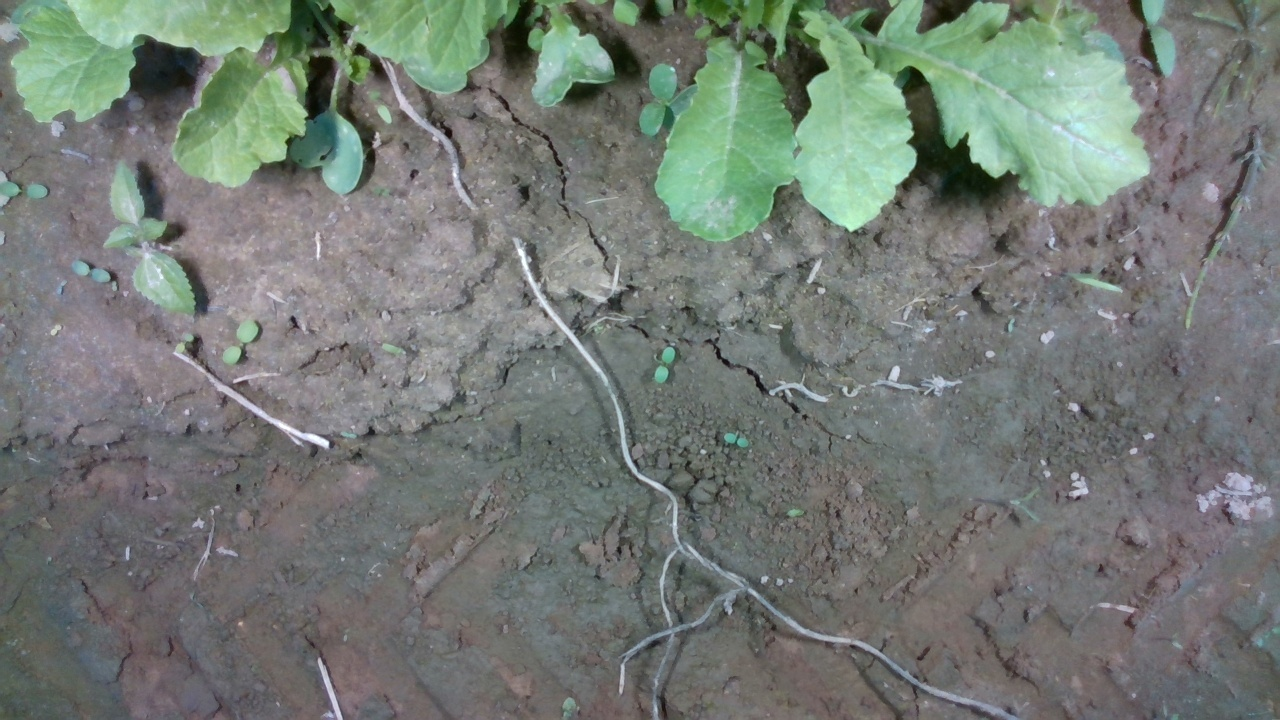weed: (70, 258, 112, 284)
